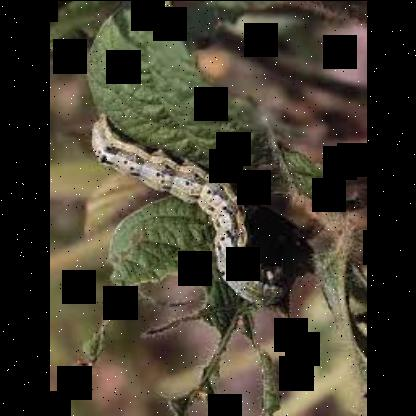agujero: (86, 266, 202, 369), (146, 316, 222, 412), (260, 300, 300, 394)
oruga: (89, 113, 289, 307)
